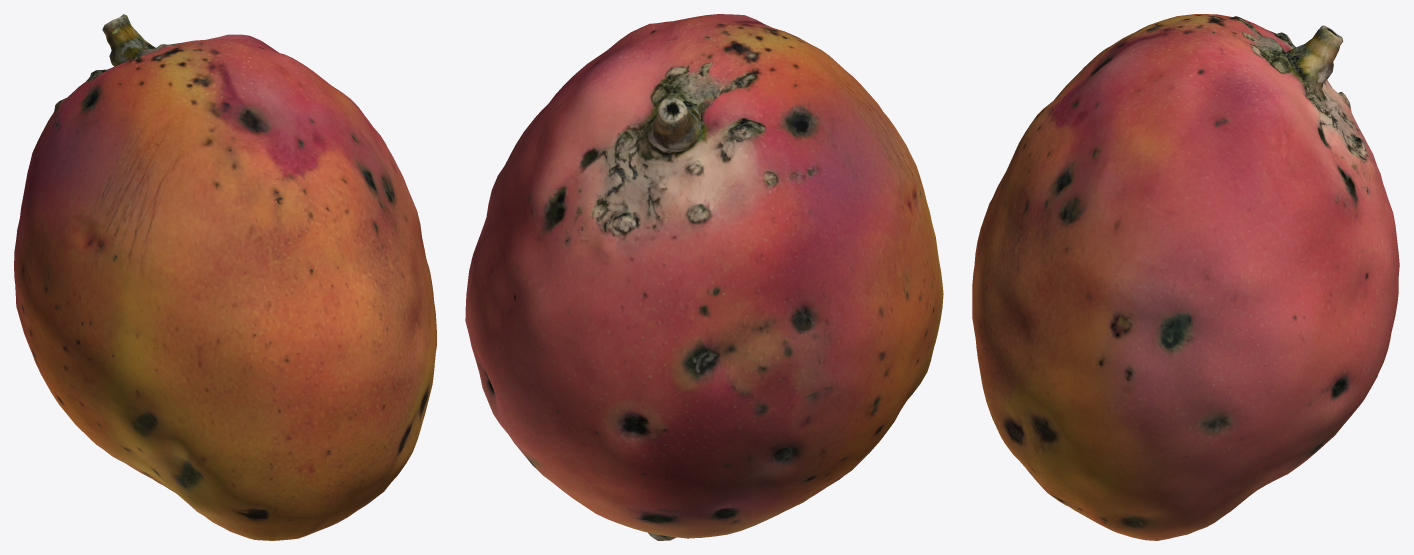
The model's file is mango.glb.
3 renders of one model, left to right at view 1: azimuth 30°, elevation 25°; view 2: azimuth 150°, elevation 25°; view 3: azimuth 270°, elevation 25°, orthographic. The views are drawn at different scales.
Size of the model in its own units: 1.55 by 1.91 by 1.57.
1 material, 1 textured.
